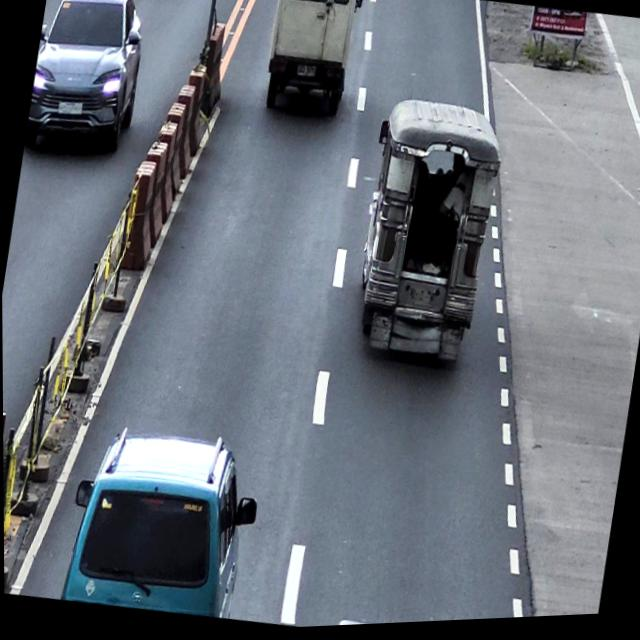Car: (57, 416, 268, 629), (23, 0, 154, 163), (258, 0, 368, 130)
Jeep: (344, 95, 510, 378)
License-Plate: (406, 289, 436, 313), (57, 100, 83, 117), (297, 67, 317, 81)
